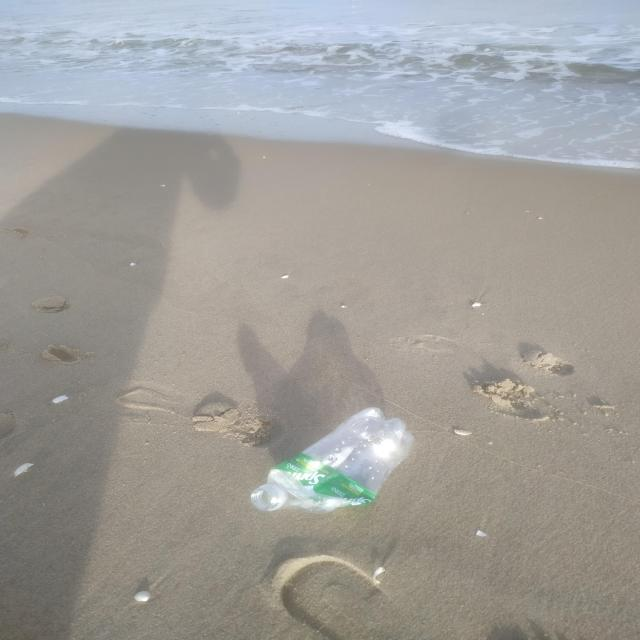litter: (249, 408, 417, 514)
